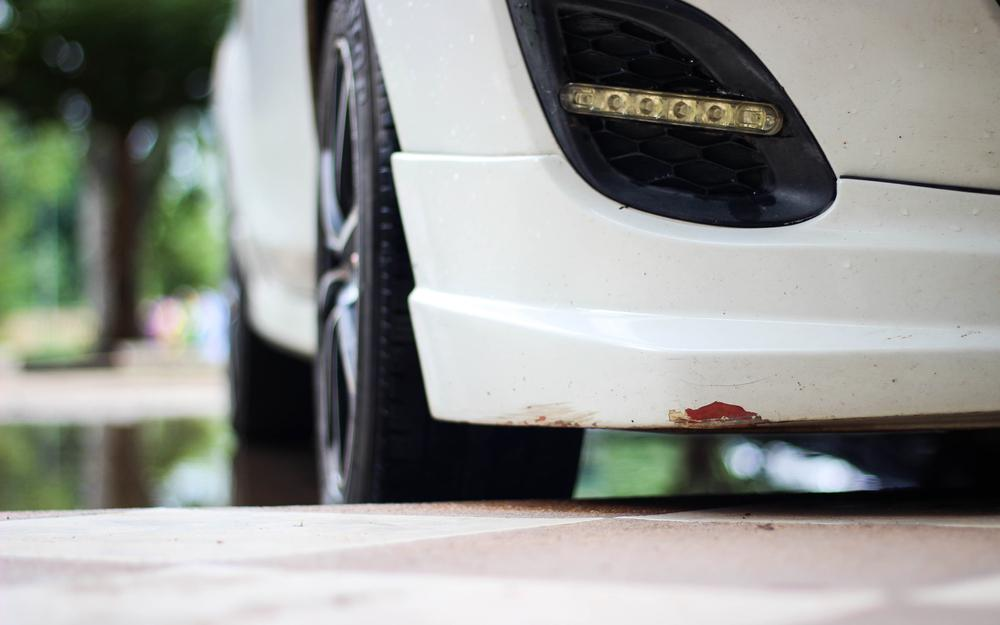scratch: (502, 398, 780, 430)
